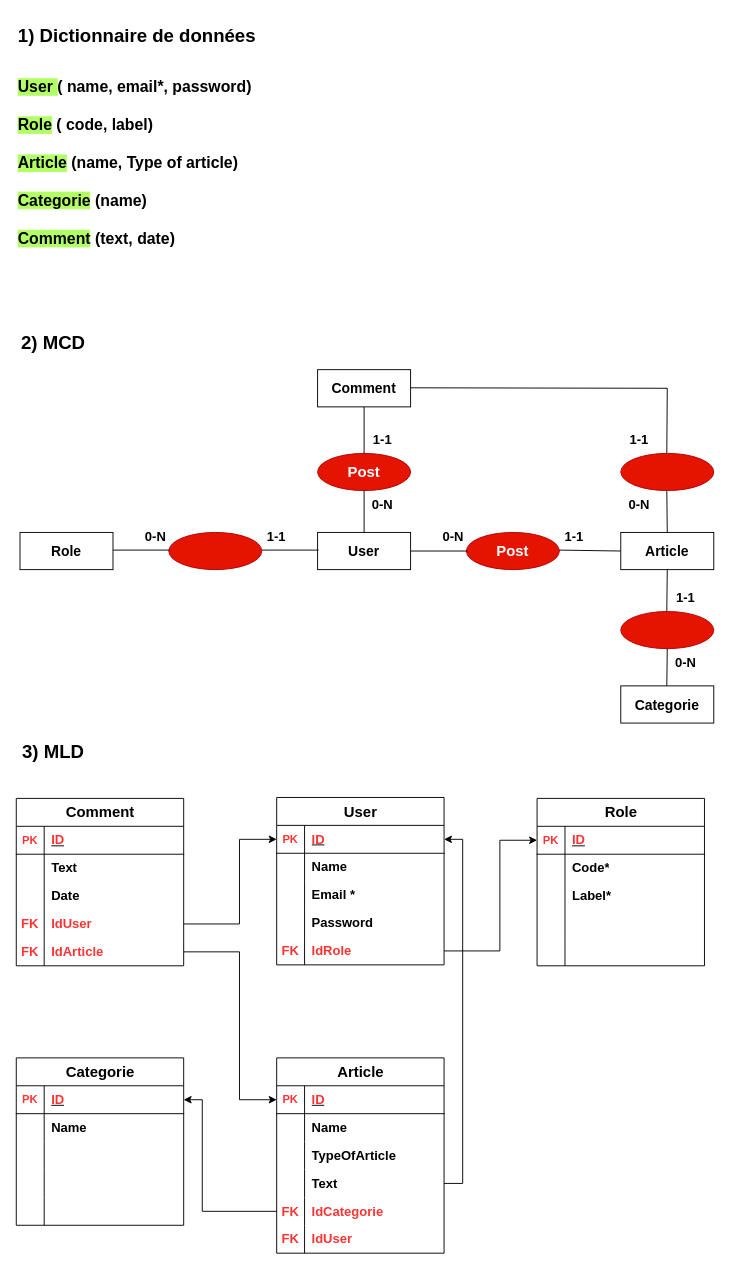
The diagram is 739 pixels wide and 1269 high, and some of its shapes have lost their labels. Here are the shapes that lost their labels. From the top down, the centre of each, then its label:
(667,471): Concerned
(215,550): Has
(667,630): Listed
